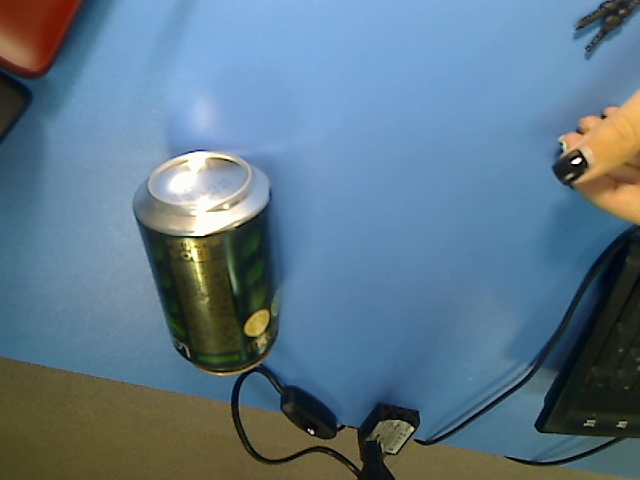can: (129, 148, 284, 377)
